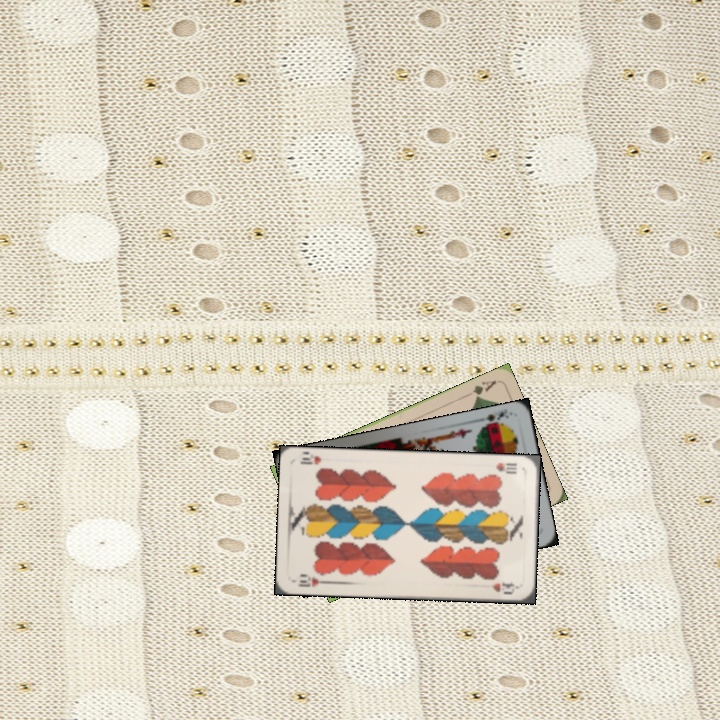GA: (461, 376, 499, 402)
H10: (294, 570, 331, 589), (492, 459, 520, 476)
SK: (474, 407, 514, 432)
